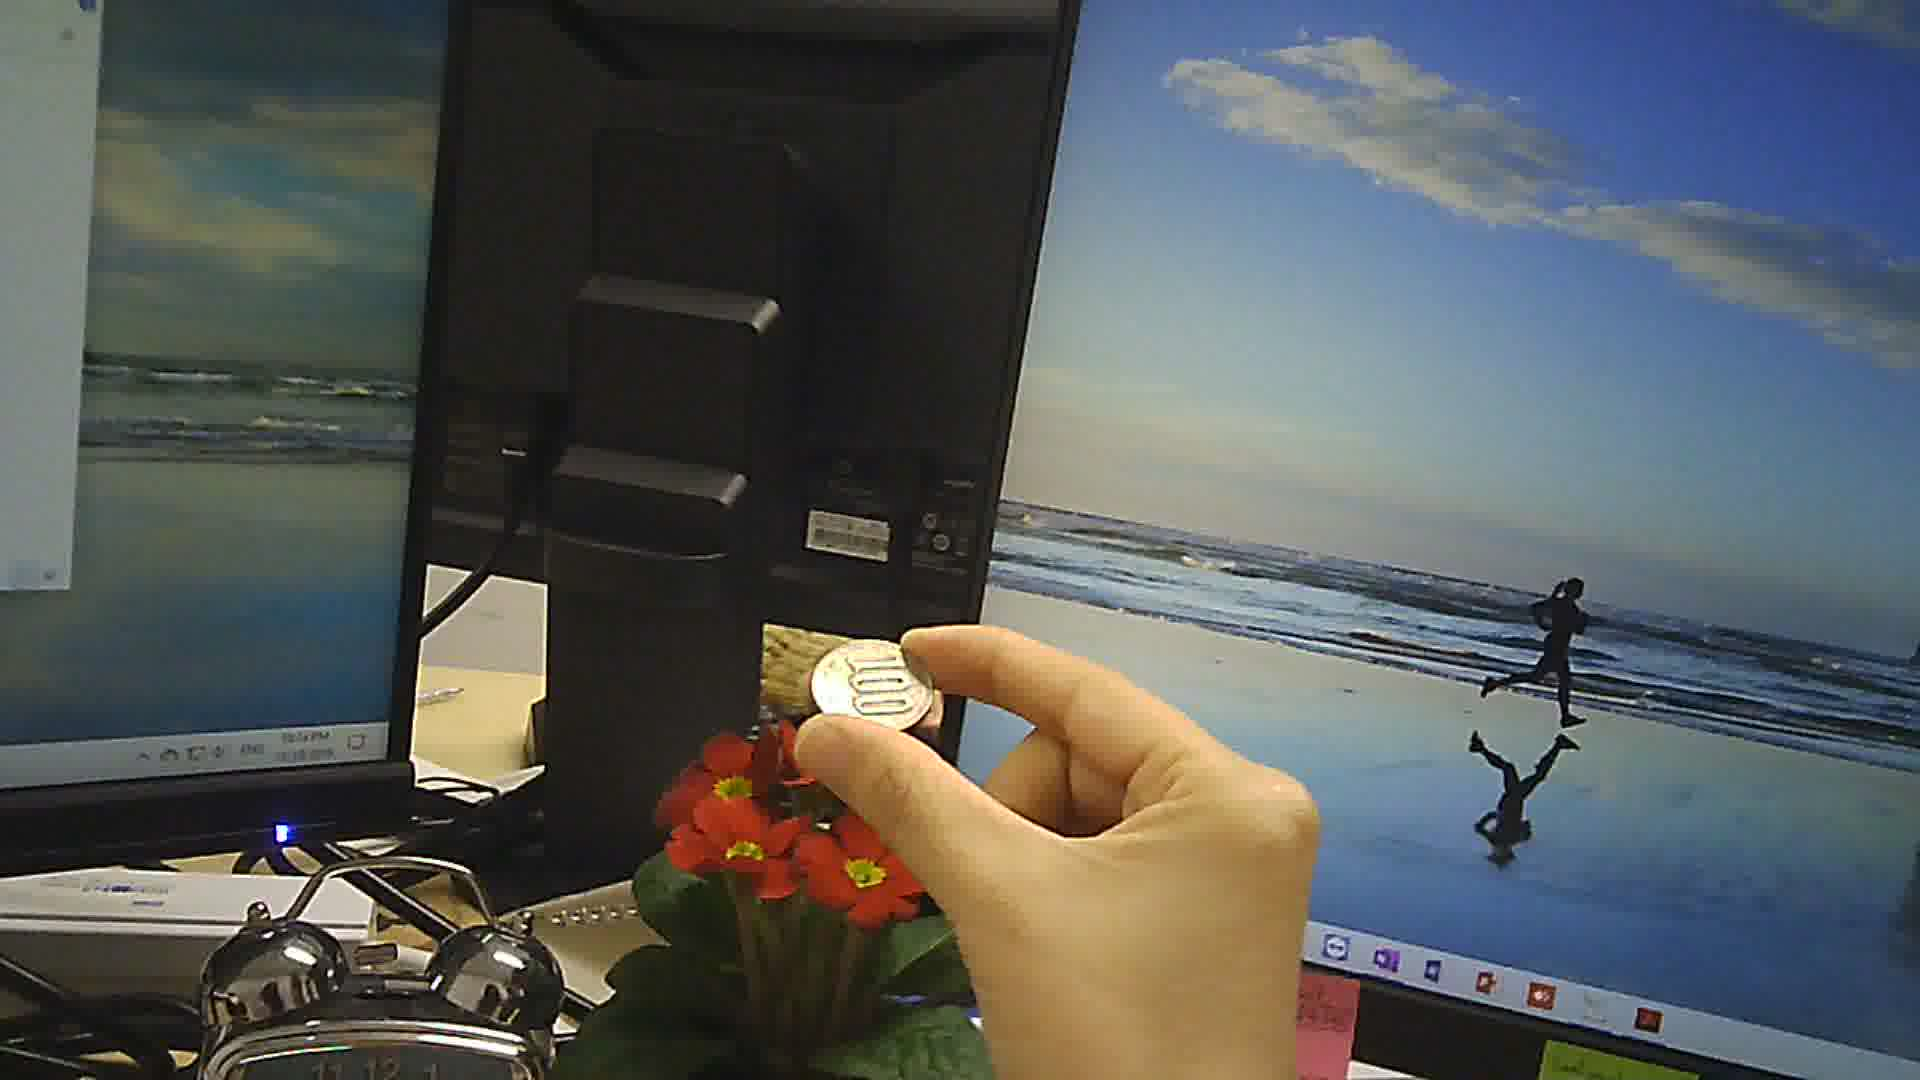100 Yen: (808, 634, 938, 729)
